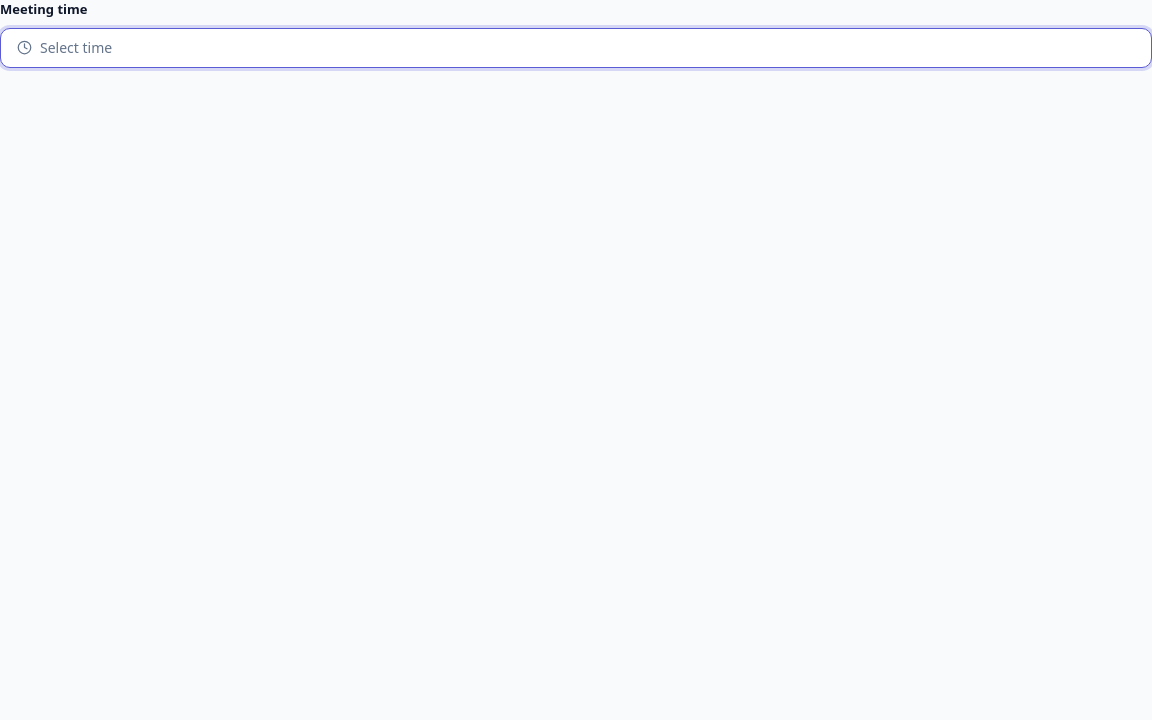
Test case: TimePicker › supports keyboard opening, selects a value, and closes the Popover
Expected: the button named "Meeting time" reads "Select time", [0,28,1151,68]
Press Enter
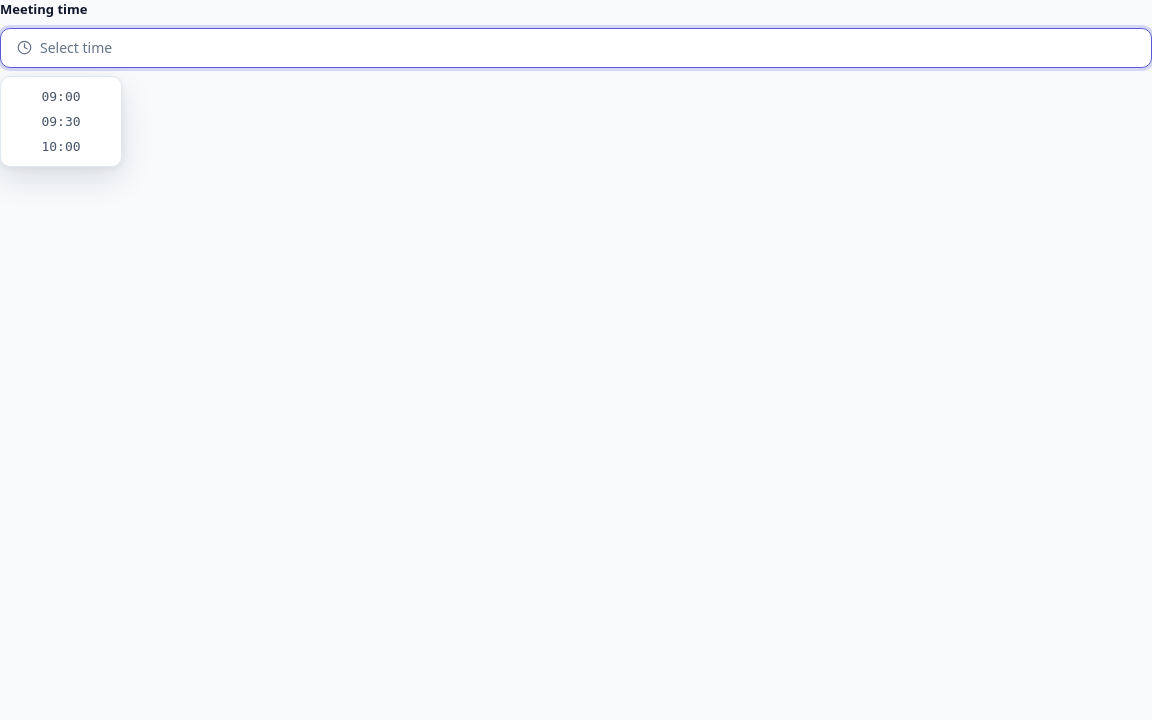
Expected: the list named "Time options" is shown, [9,84,113,158]
Press Tab
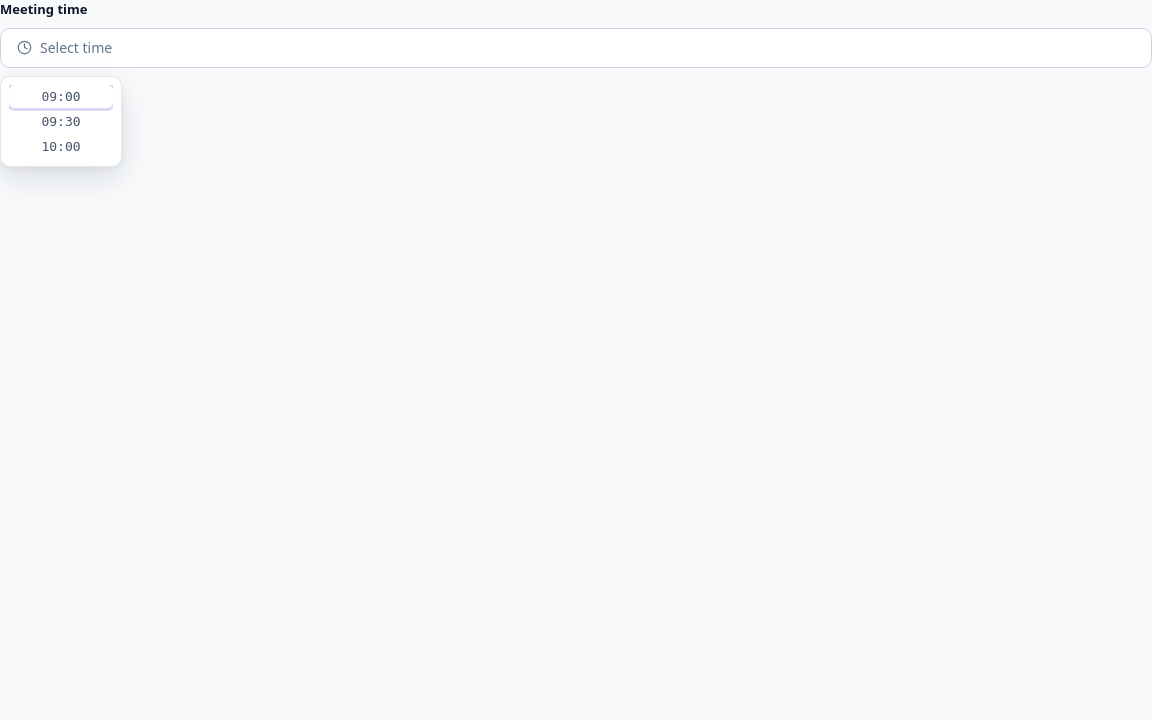
Click the option "09:30": (61, 121) [9,110,113,132]
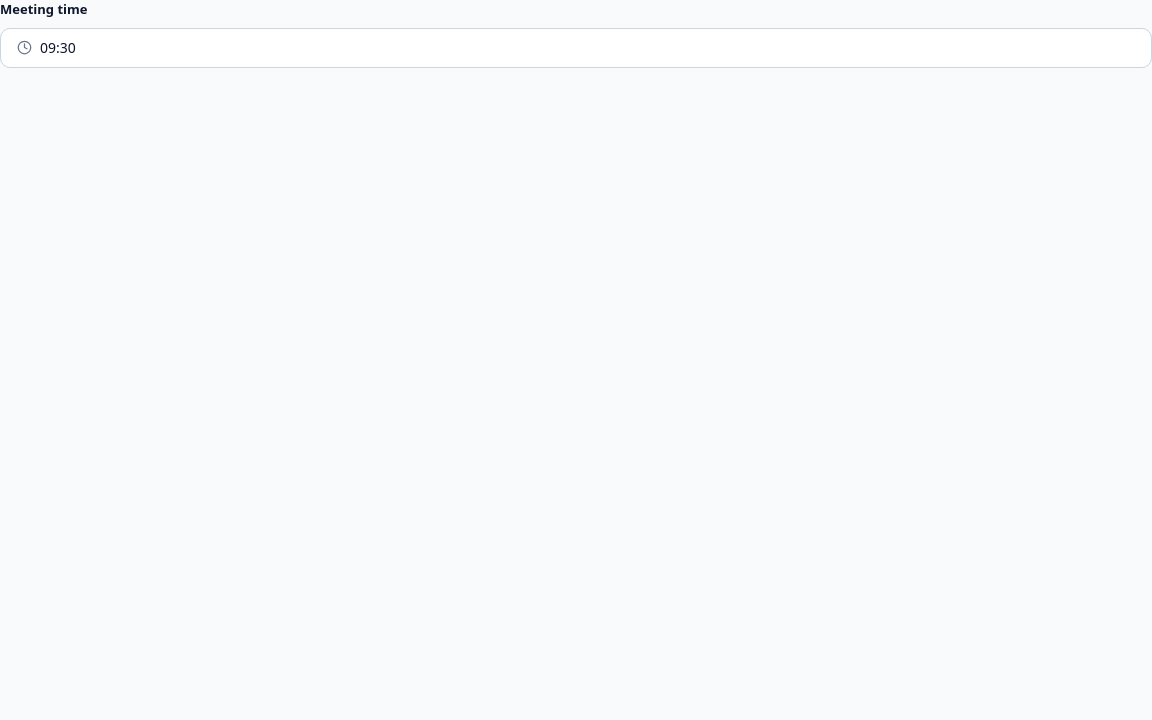
Expected: the list is gone
Expected: the button named "Meeting time" reads "09:30", [0,28,1151,68]
